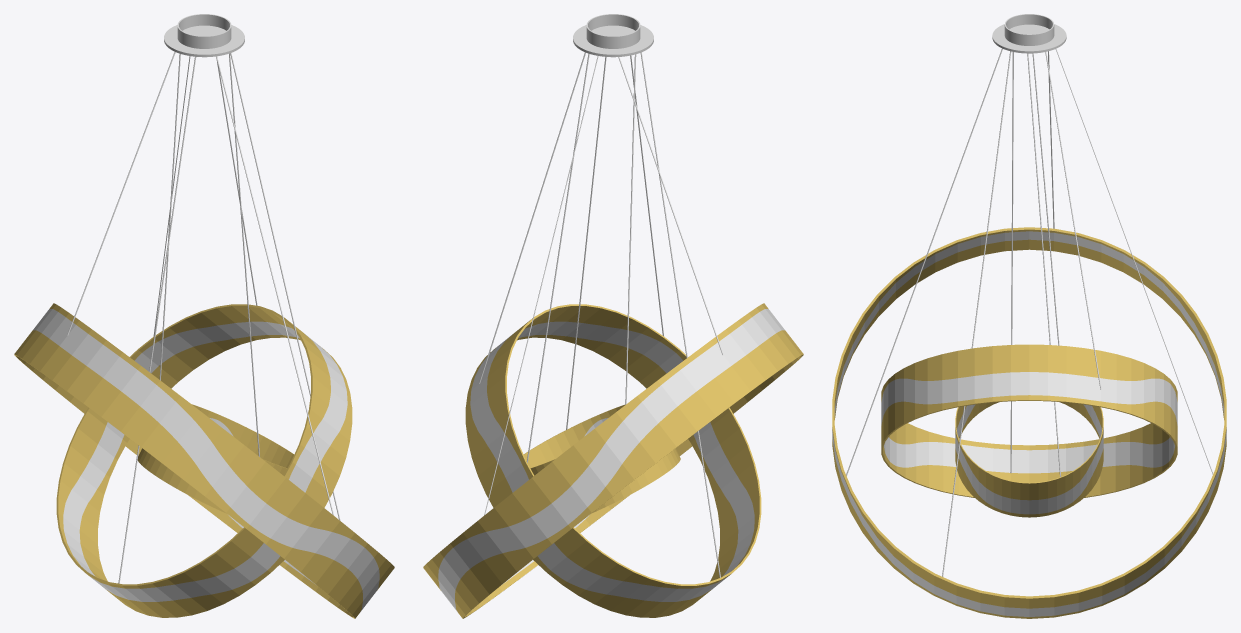
Rendered from 001_Electrivenka.glb.
3 views of the same model, side by side, from view 1: azimuth 30°, elevation 25°; view 2: azimuth 150°, elevation 25°; view 3: azimuth 270°, elevation 25° (orthographic). The views are drawn at different scales.
Parts seen in each view (by area): view 1: root; view 2: root; view 3: root.
Part boxes in pixels (x1=…): root: x1=14, y1=14, x2=394, y2=618; root: x1=423, y1=14, x2=803, y2=618; root: x1=832, y1=14, x2=1226, y2=618.
Size of the model in its own units: 0.6505 by 1.22 by 0.7984.
